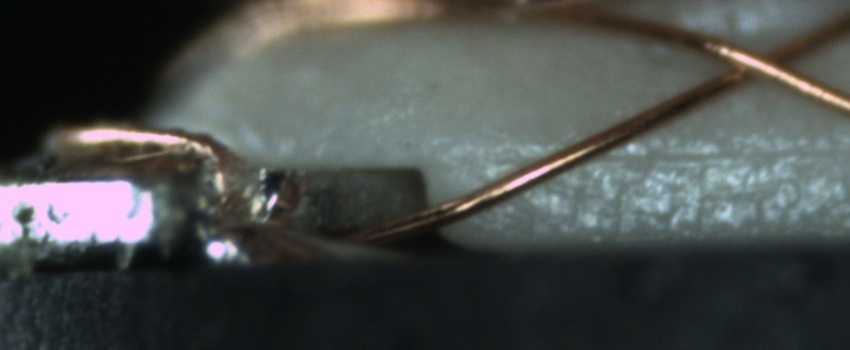CL: (700, 30, 821, 93)
DL: (493, 127, 849, 188)
TE: (26, 106, 247, 160)
